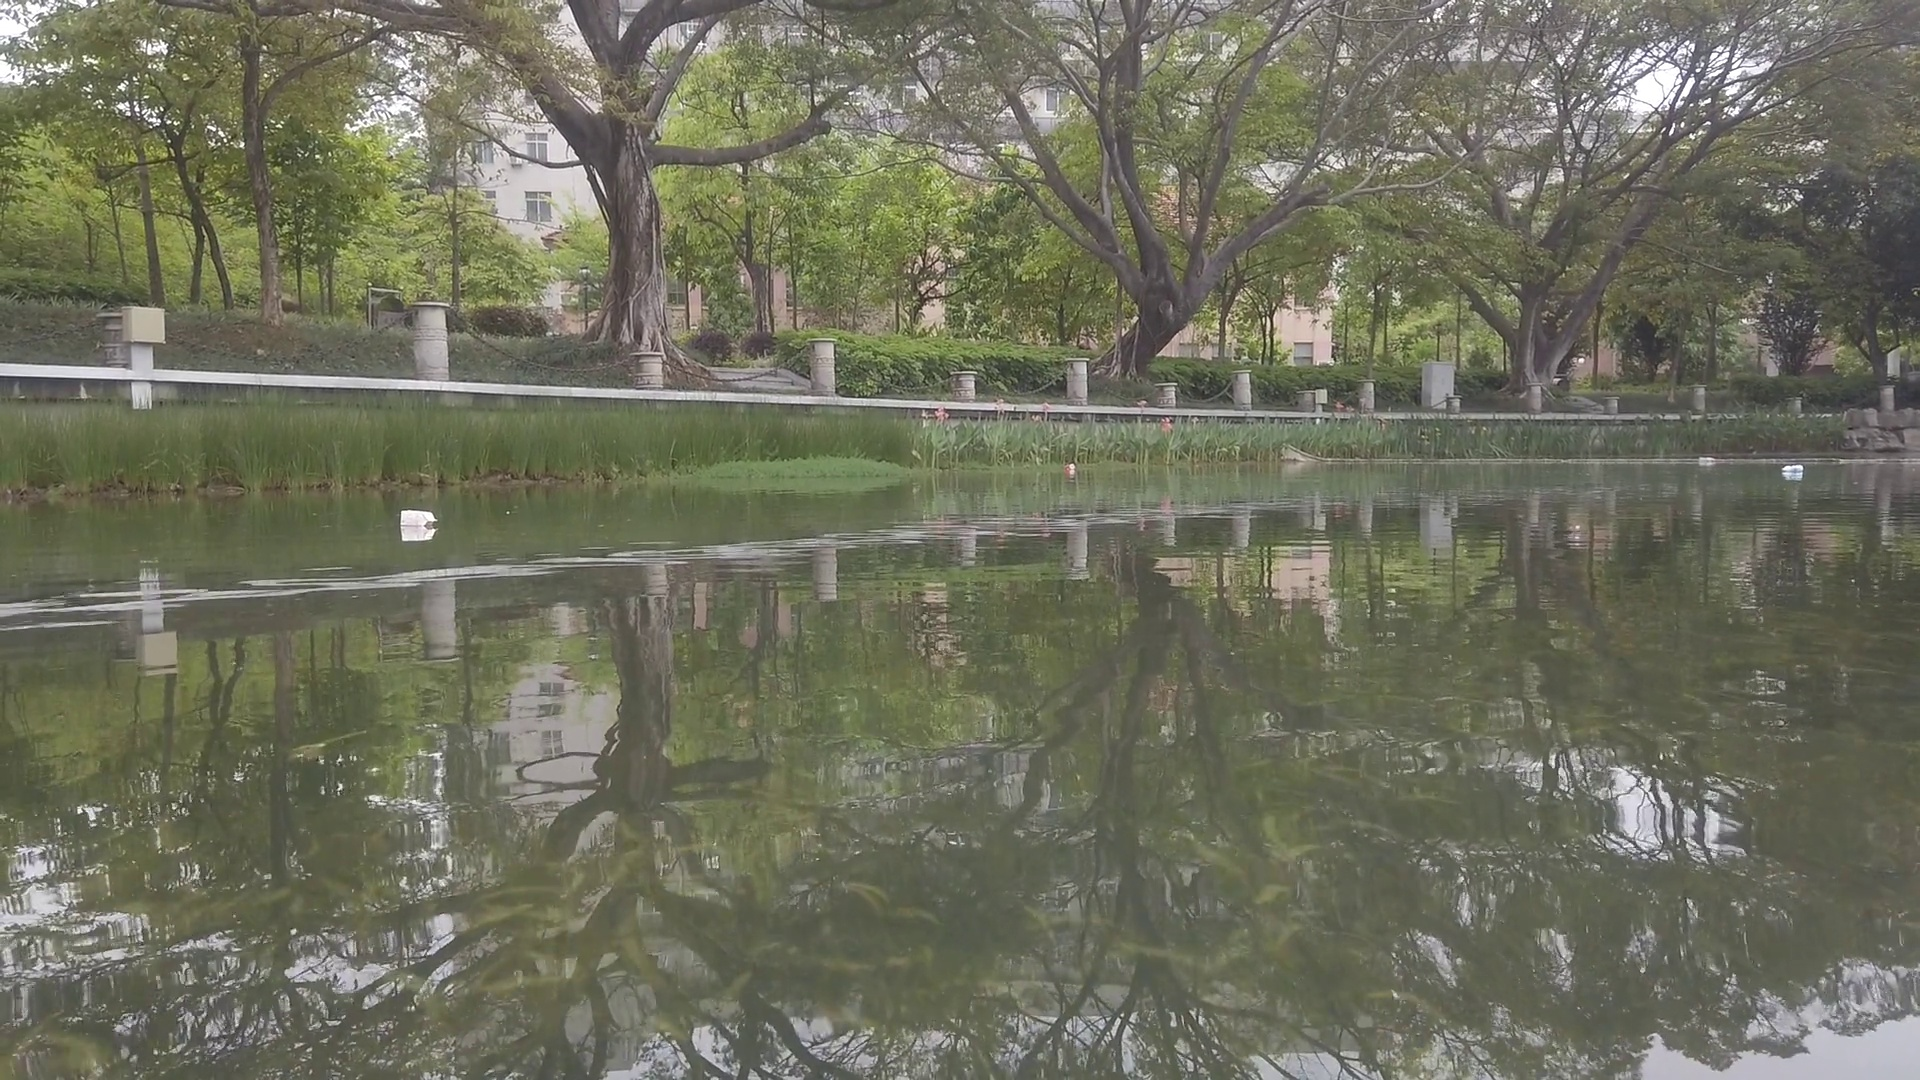bottle: (1782, 465, 1807, 473), (1697, 455, 1714, 464), (1063, 463, 1076, 472)
carton: (401, 506, 436, 525)
